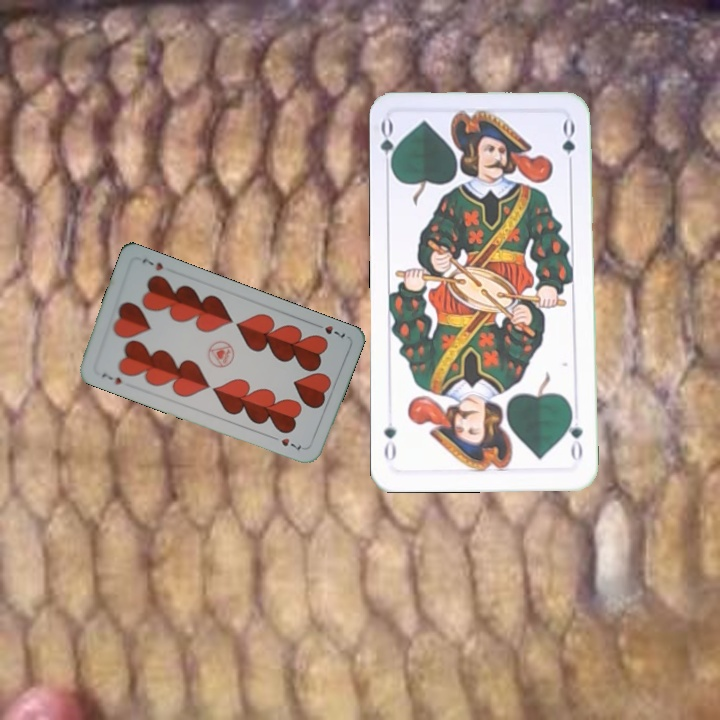GO: (376, 117, 403, 176), (563, 406, 585, 463)
H7: (310, 319, 348, 341), (98, 369, 124, 387)
